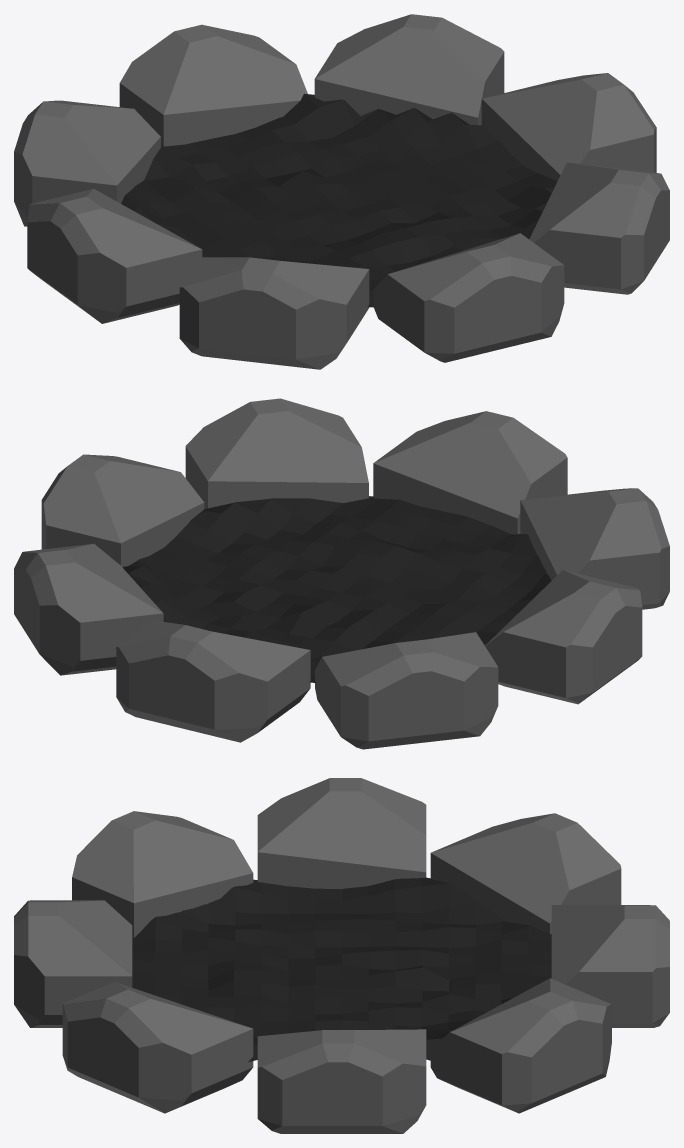
File: firepit.fbx
3 views of the same model, one above another, from view 1: azimuth 30°, elevation 25°; view 2: azimuth 150°, elevation 25°; view 3: azimuth 270°, elevation 25° (orthographic).
Parts seen in each view (by area): view 1: Plane, Cube.004, Cube.001, Cube.002, Cube, Cube.005, Cube.007, Cube.003, Cube.006; view 2: Plane, Cube, Cube.006, Cube.001, Cube.007, Cube.002, Cube.005, Cube.003, Cube.004; view 3: Plane, Cube.007, Cube.003, Cube.005, Cube.002, Cube.006, Cube.004, Cube, Cube.001.
Part boxes in pixels (box(x1,y1,x2,y2)): Plane: box(121, 93, 556, 307); Cube.004: box(179, 257, 369, 369); Cube.001: box(373, 233, 564, 362); Cube.002: box(27, 188, 202, 323); Cube: box(119, 24, 307, 146); Cube.005: box(314, 14, 504, 125); Cube.007: box(529, 162, 669, 294); Cube.003: box(481, 73, 656, 181); Cube.006: box(14, 100, 160, 226); Plane: box(123, 496, 551, 683); Cube: box(116, 620, 310, 742); Cube.006: box(315, 632, 498, 749); Cube.001: box(373, 411, 567, 534); Cube.007: box(185, 398, 368, 508); Cube.002: box(485, 570, 642, 704); Cube.005: box(14, 543, 163, 675); Cube.003: box(41, 454, 204, 567); Cube.004: box(520, 488, 669, 609); Plane: box(132, 877, 551, 1062); Cube.007: box(62, 982, 253, 1113); Cube.003: box(257, 1029, 426, 1133); Cube.005: box(430, 978, 611, 1113); Cube.002: box(257, 778, 426, 889); Cube.006: box(430, 813, 621, 934); Cube.004: box(72, 811, 253, 937); Cube: box(551, 905, 669, 1027); Cube.001: box(14, 900, 132, 1027).
Bounding box in the file's own units: 732 × 113 × 732.
